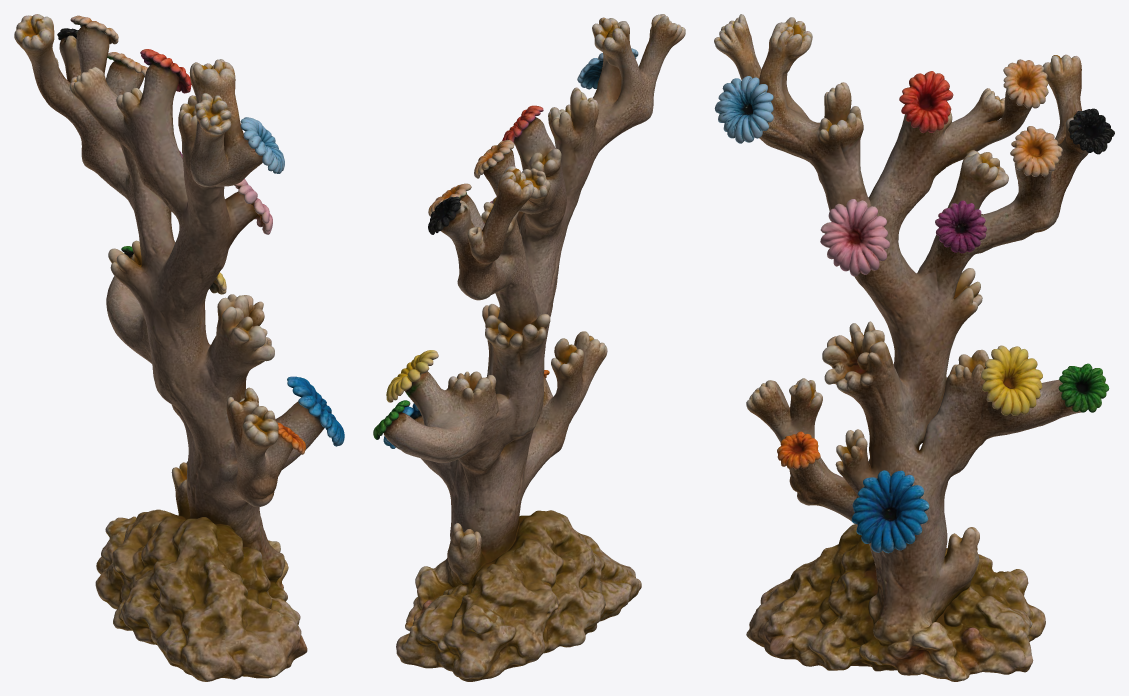
3 renders of one model, left to right at view 1: azimuth 30°, elevation 25°; view 2: azimuth 150°, elevation 25°; view 3: azimuth 270°, elevation 25°, orthographic. The views are drawn at different scales.
Size of the model in its own units: 0.3978 by 0.9996 by 0.6053.
1 material, 1 textured.
